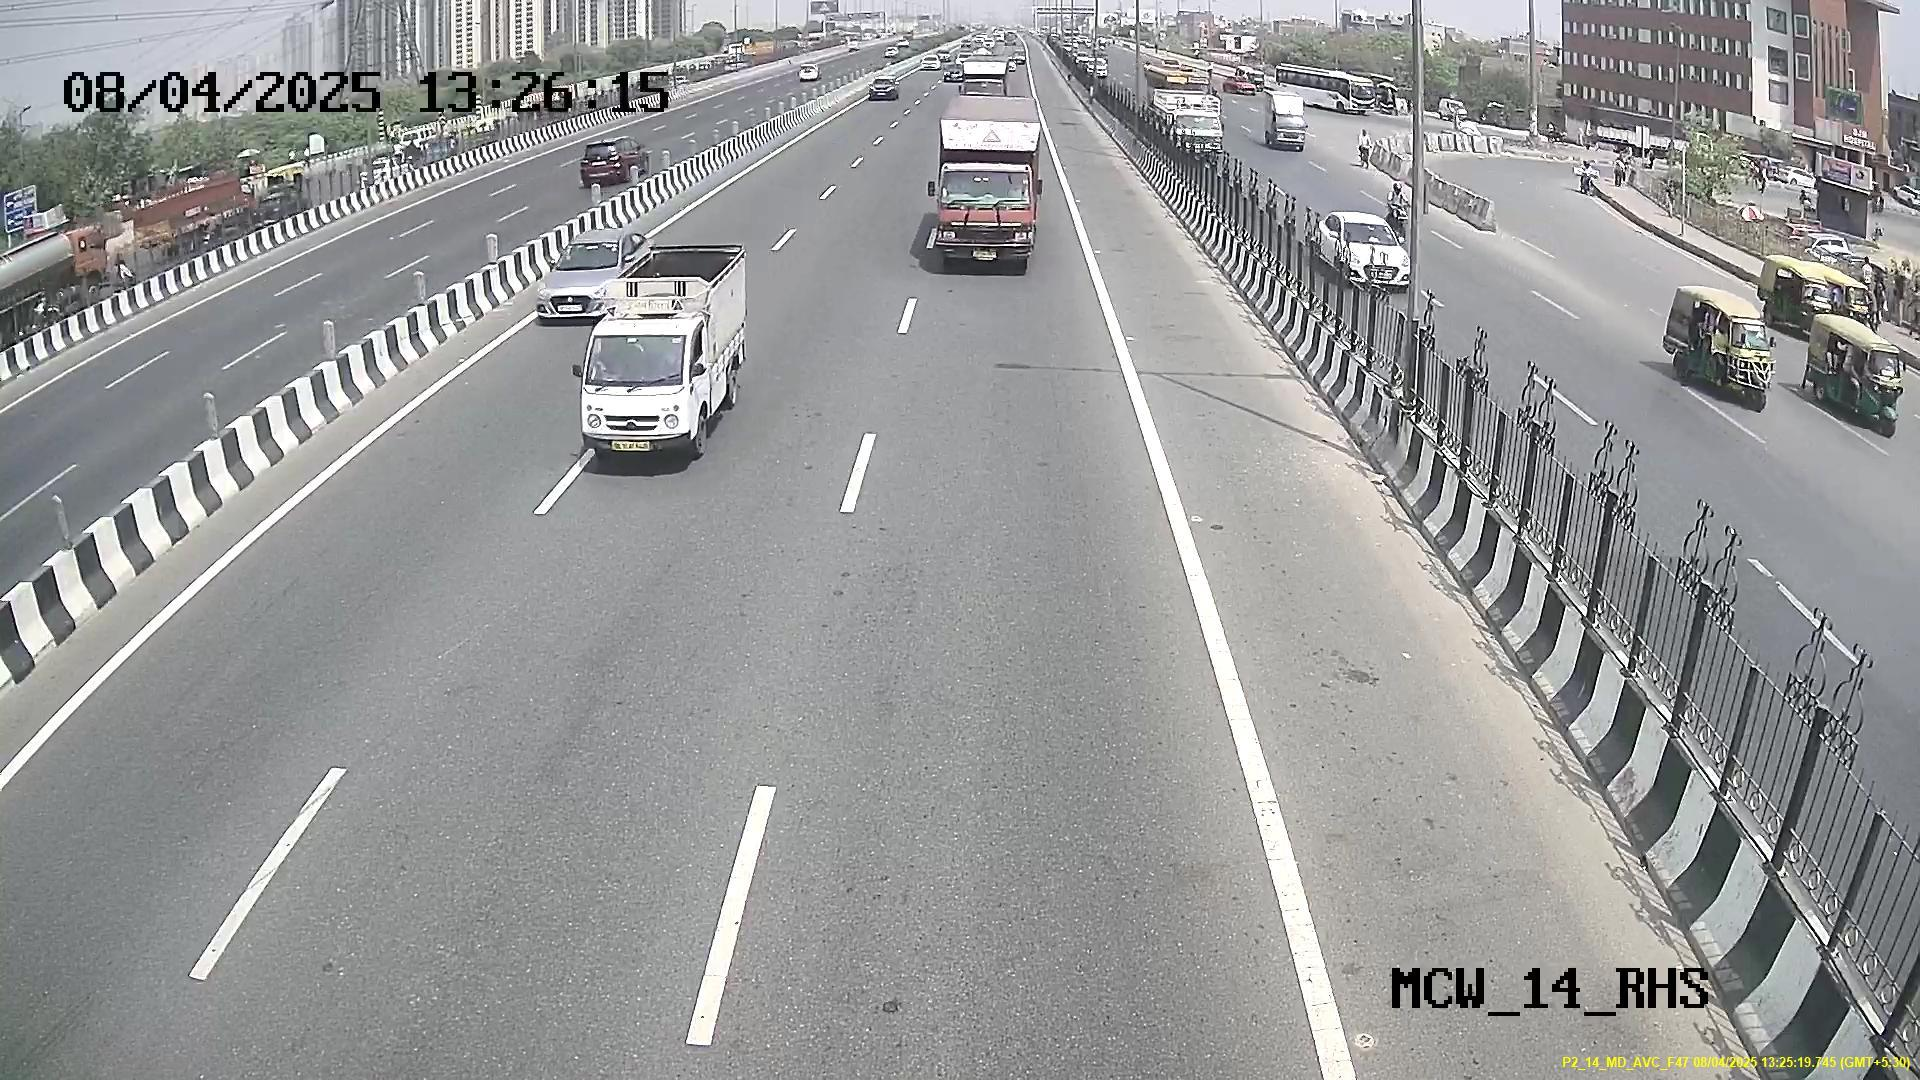car: (570, 310, 719, 460), (534, 231, 624, 323)
lcv: (932, 156, 1036, 273)
